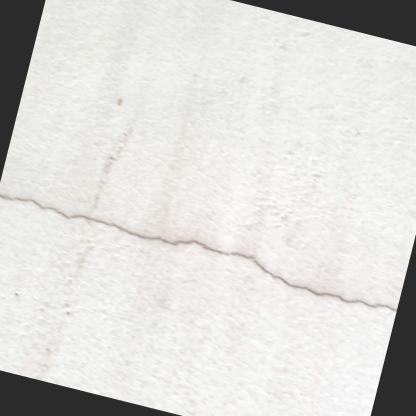crack: (0, 194, 397, 310)
